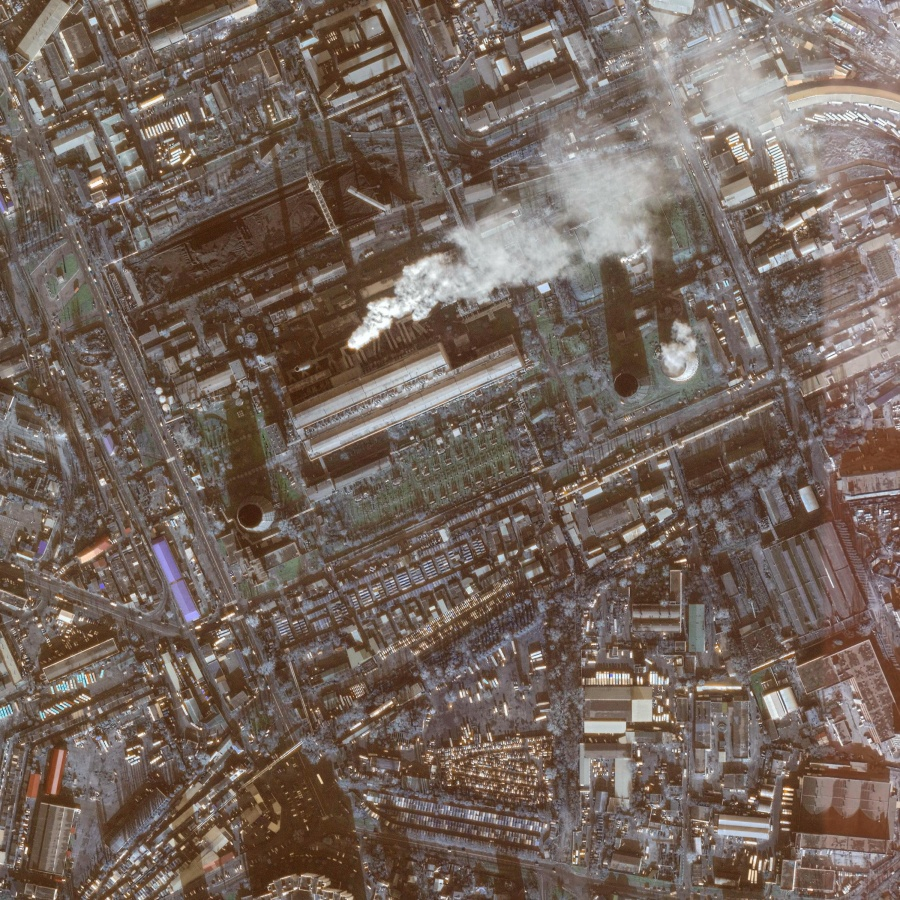PowerPlant: (208, 116, 833, 542)
